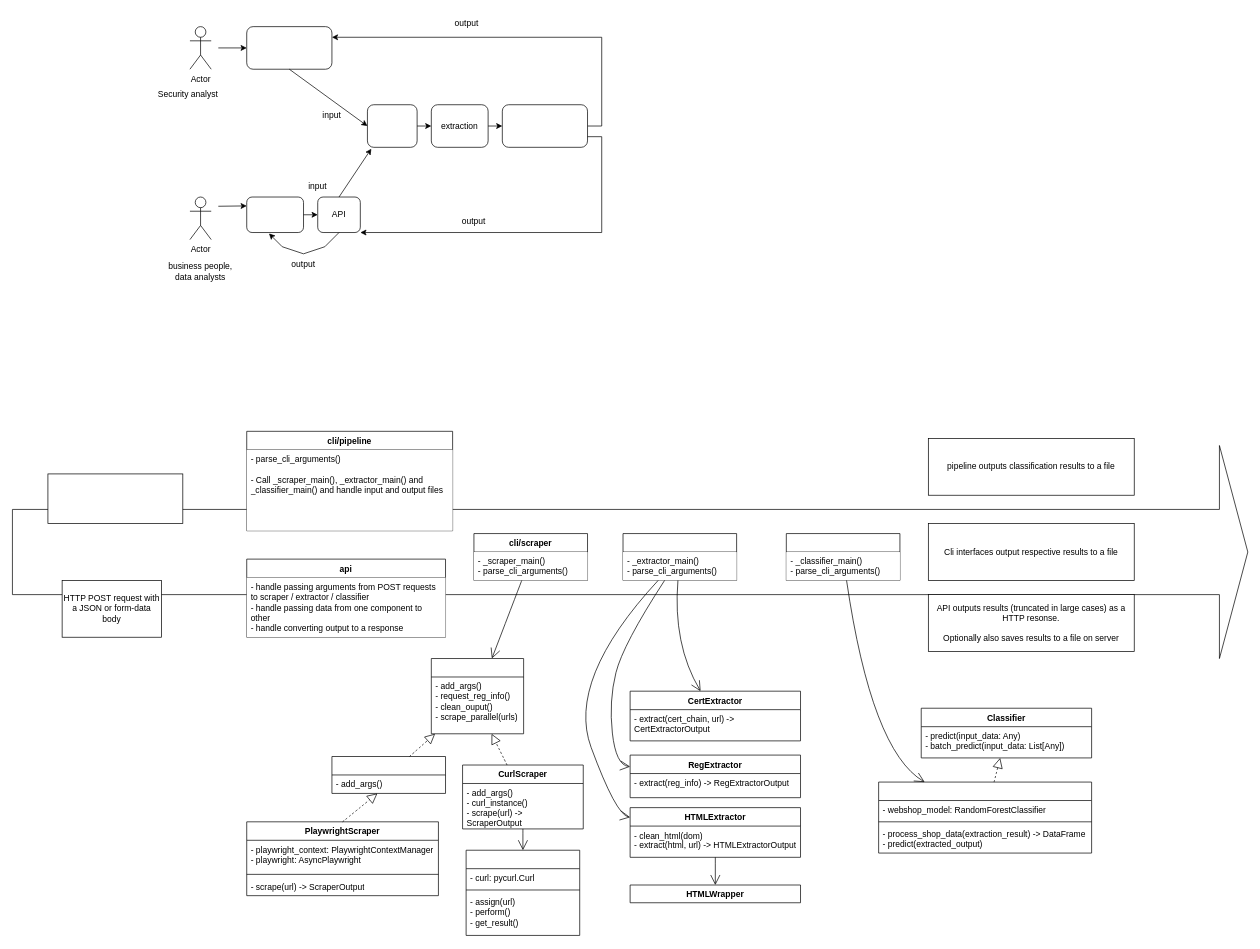
The diagram is 1260 pixels wide and 949 high, and some of its shapes have lost their labels. The box of each missing label's shape, as (x1, y1, x2, y2) in pixels:
BrowserSraper: (331, 756, 446, 793)
cli/classify: (786, 533, 900, 580)
cli/extractor: (622, 533, 737, 580)
command line interface: (246, 26, 332, 69)
CurlWrapper: (465, 850, 580, 935)
Input as text file with urls Arguments from cli or config file: (47, 473, 183, 524)
machine learning model: (502, 104, 588, 147)
Scraper: (431, 658, 524, 734)
web scraping: (367, 104, 417, 147)
web UI: (246, 196, 304, 233)
WebshopClassifier: (878, 781, 1092, 853)
